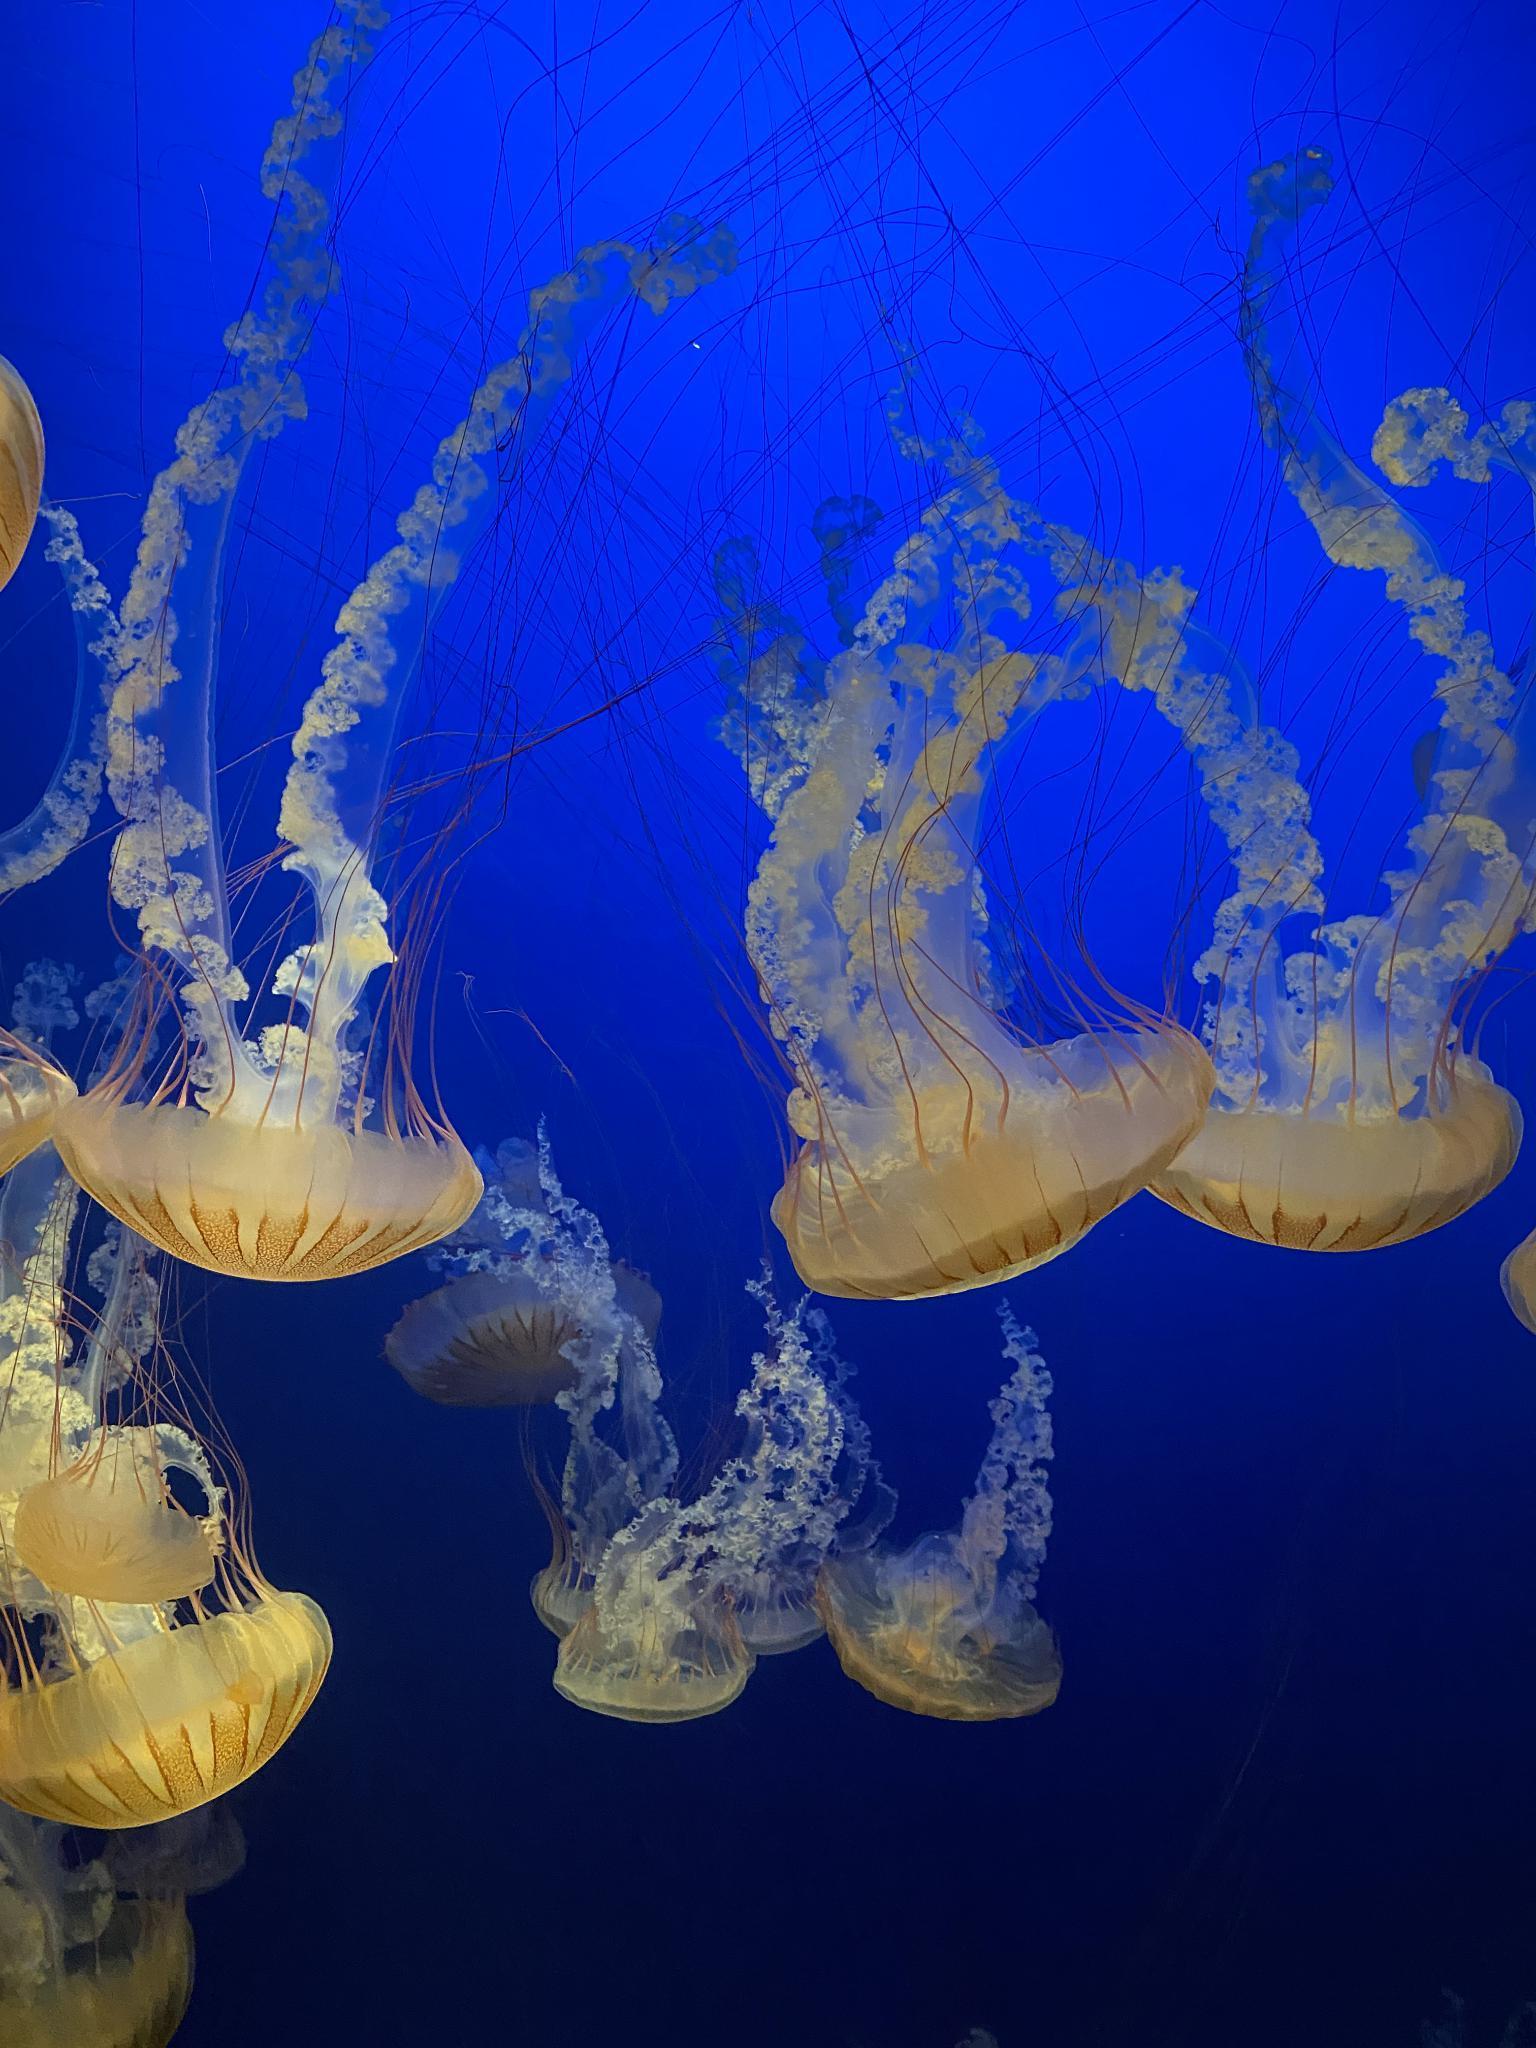jellyfish: (771, 1009, 1223, 1301), (45, 1076, 486, 1288), (0, 1571, 337, 1832), (1126, 1039, 1525, 1255), (0, 1416, 231, 1629), (802, 1538, 1068, 1722), (0, 1885, 194, 2048), (531, 1600, 762, 1722), (402, 1303, 615, 1409), (666, 1571, 842, 1671), (0, 1026, 82, 1201), (520, 1559, 653, 1658), (0, 355, 48, 606)
